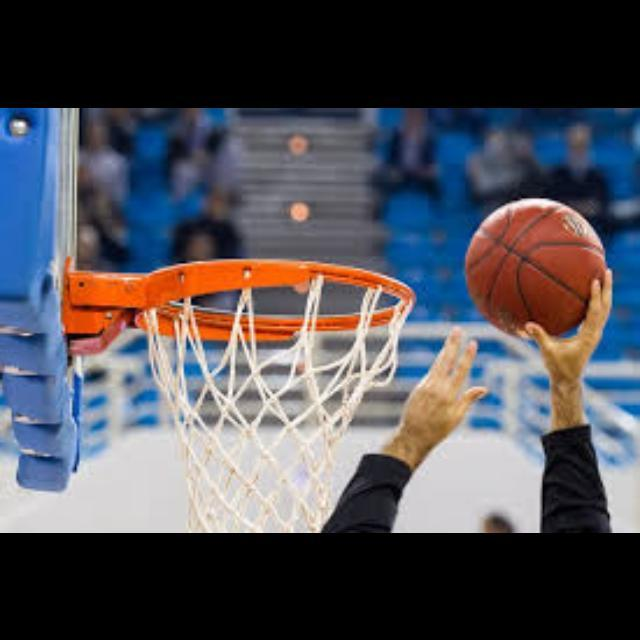basketball: (466, 202, 604, 336)
rim: (141, 259, 415, 533)
